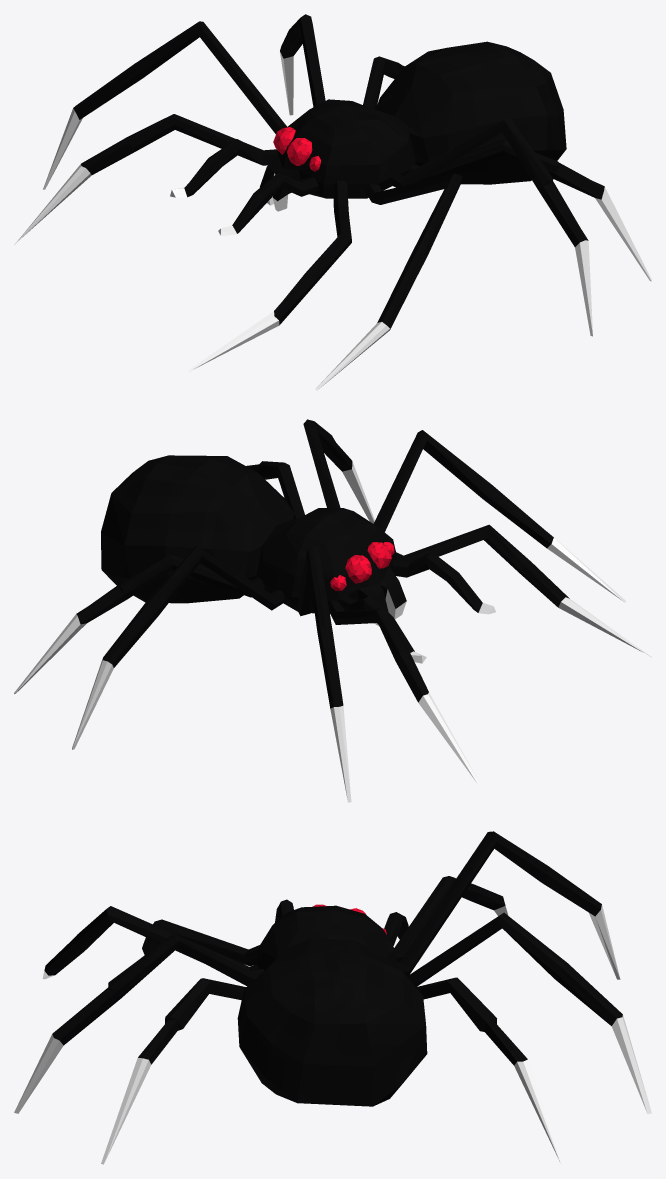
File: spiderIdle7.obj
3 views of the same model, one above another, from view 1: azimuth 30°, elevation 25°; view 2: azimuth 150°, elevation 25°; view 3: azimuth 270°, elevation 25° (orthographic). The views are drawn at different scales.
Parts seen in each view (by area): view 1: Cube.003_Cube.004; view 2: Cube.003_Cube.004; view 3: Cube.003_Cube.004.
Boxes of the visible parts, box(x1,y1,x2,y2) form: Cube.003_Cube.004: box(14, 14, 651, 390); Cube.003_Cube.004: box(14, 419, 651, 802); Cube.003_Cube.004: box(14, 831, 651, 1164).
Size of the model in its own units: 29.45 by 11.78 by 34.52.
